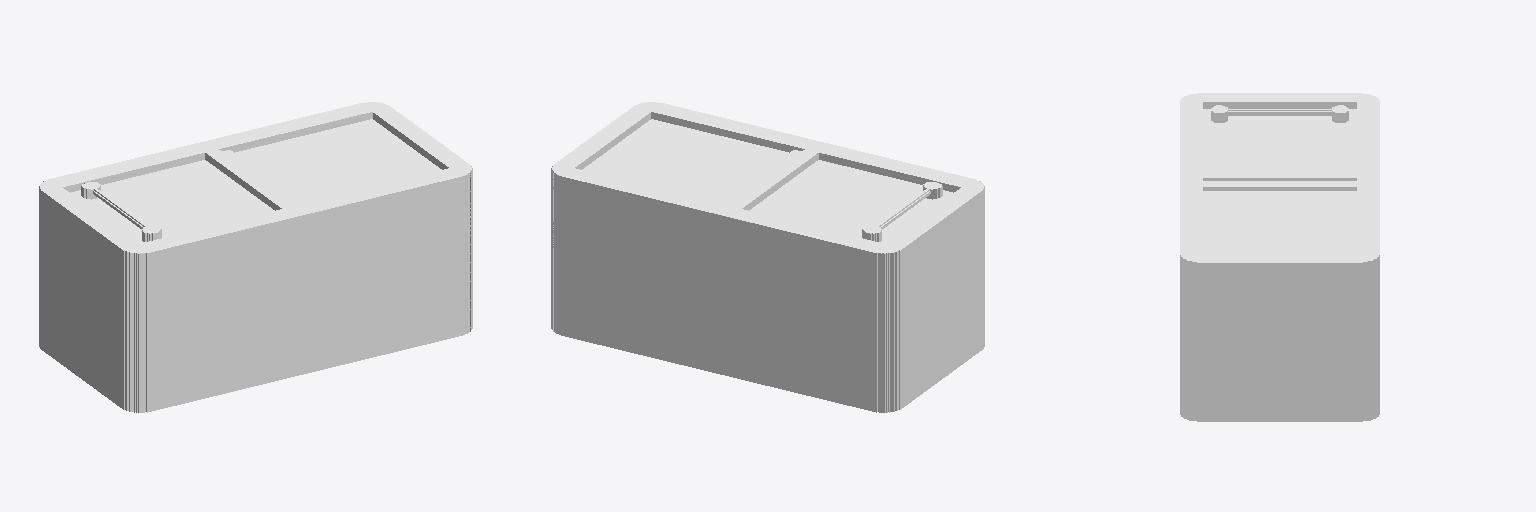
File: FreezerHorizontal.obj
3 renders of one model, left to right at view 1: azimuth 30°, elevation 25°; view 2: azimuth 150°, elevation 25°; view 3: azimuth 270°, elevation 25°, orthographic.
Parts seen in each view (by area): view 1: object 1; view 2: object 1; view 3: object 1.
Boxes of the visible parts, box(x1,y1,x2,y2) form: object 1: box(39, 102, 472, 412); object 1: box(551, 102, 984, 412); object 1: box(1180, 93, 1379, 421).
Size of the model in its own units: 25.6 by 11.4 by 12.8.